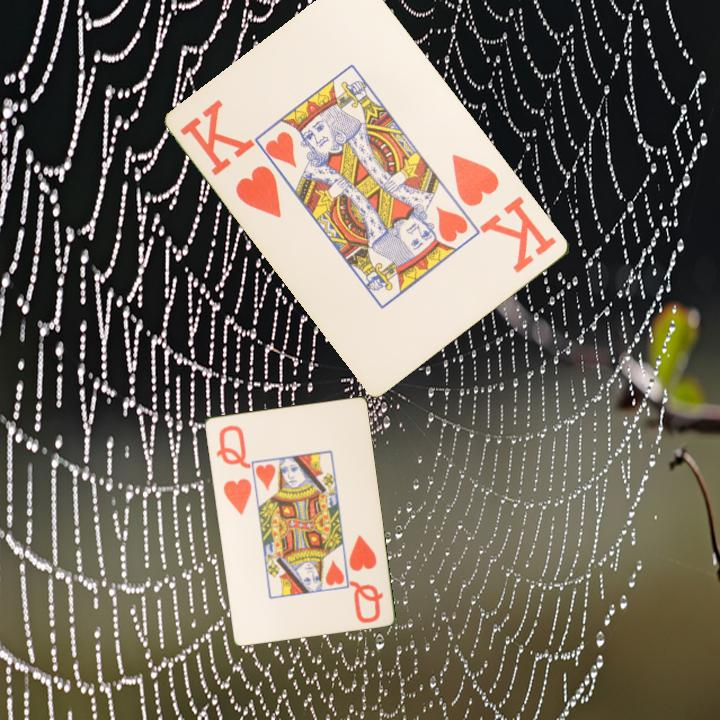Kh: (448, 150, 561, 277), (177, 96, 285, 221)
Qh: (212, 421, 254, 517), (345, 531, 386, 626)
